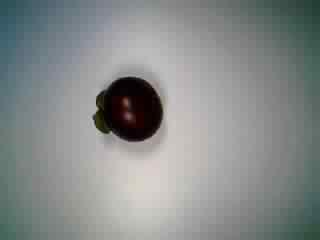mangosteen: (89, 70, 164, 154)
